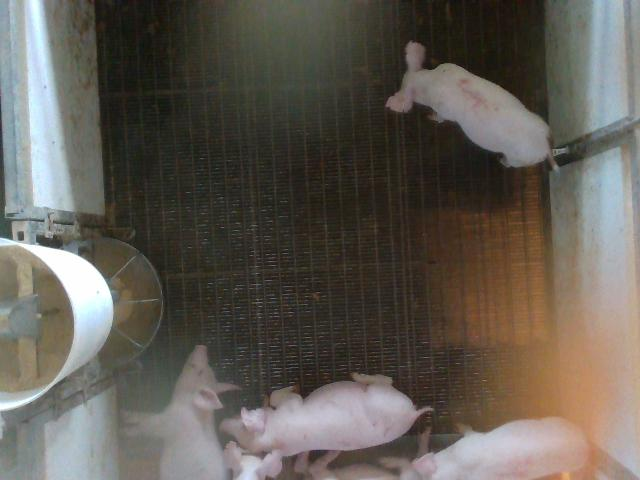pig-4: (412, 418, 589, 479)
pig-5: (386, 41, 558, 168)
